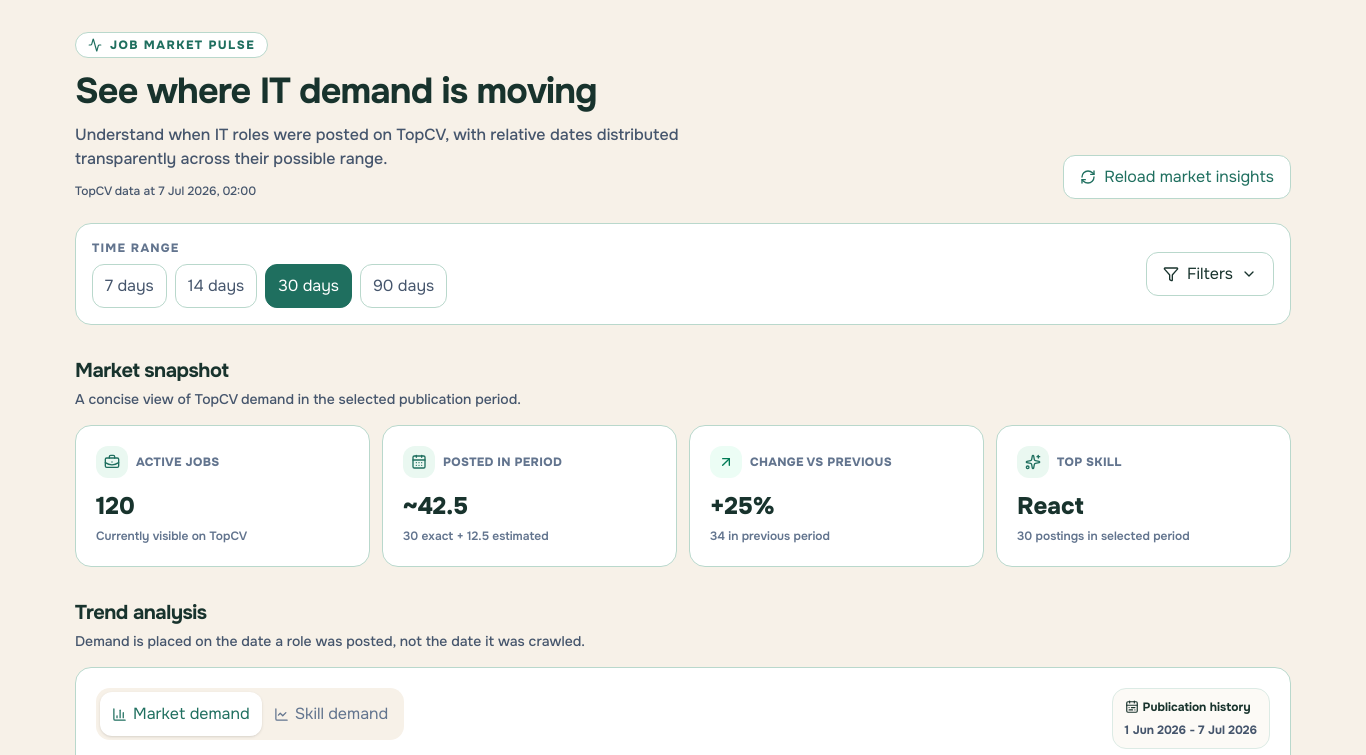
it: MarketPulsePage › keeps the prior view when a reload fails
The image size is (1366, 755).
Expected: the heading "Market snapshot" is shown, [75,358,228,383]
Step 1. Click the button "Reload market insights" → (1177, 177), box [1063,155,1291,199]
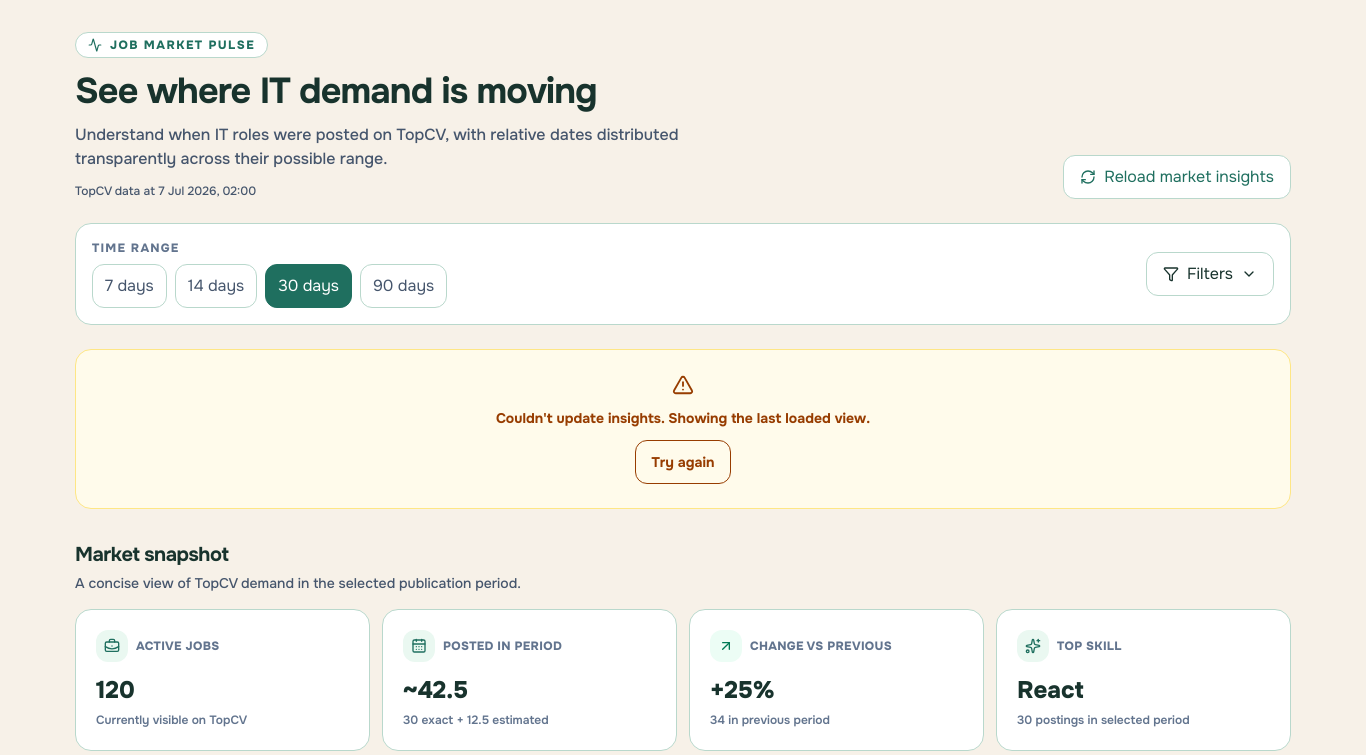
Expected: the heading "Market snapshot" is shown, [75,542,228,567]
Now the text "Couldn't update insights. Showing the last loaded view." is shown, box [496,408,870,428]
